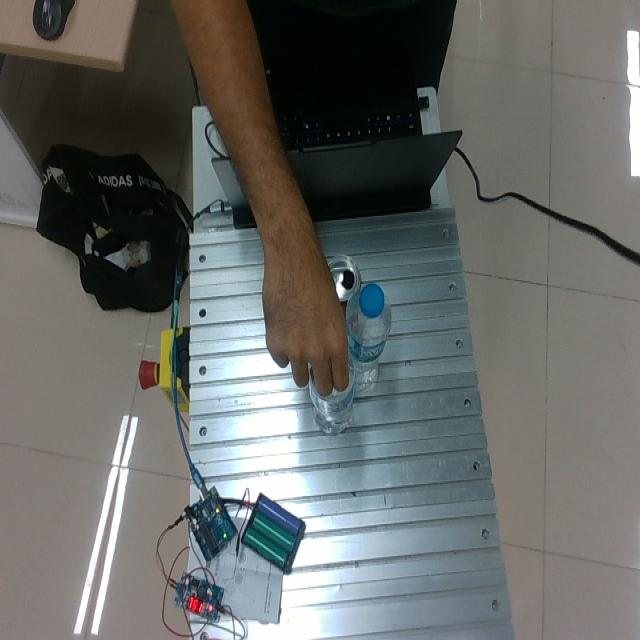coca: (326, 255, 364, 308)
lavie: (346, 284, 392, 391), (307, 353, 357, 435)
